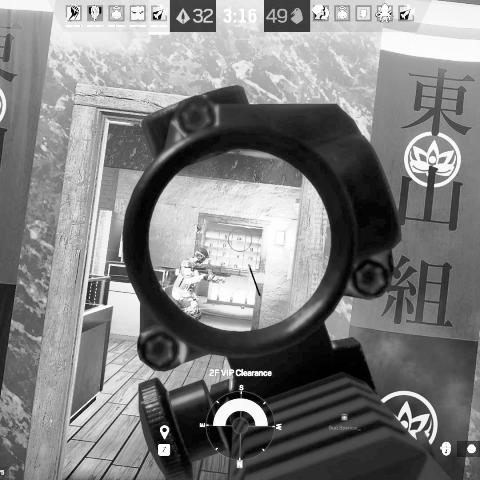Character: (171, 247, 229, 324)
Friend_label: (176, 224, 219, 248), (329, 411, 360, 431)
Head: (194, 248, 210, 264)
